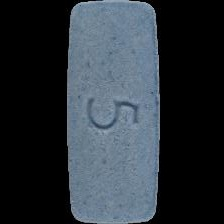60505-2673: (0, 0, 224, 224)
